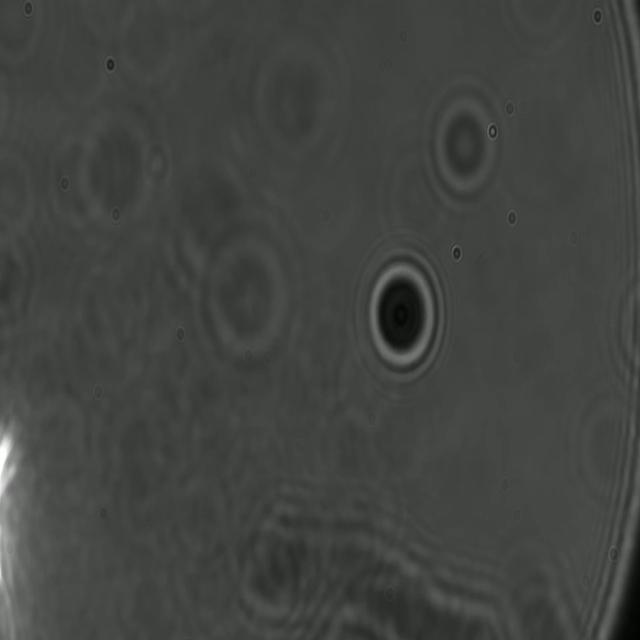DCELL: (361, 246, 446, 381)
